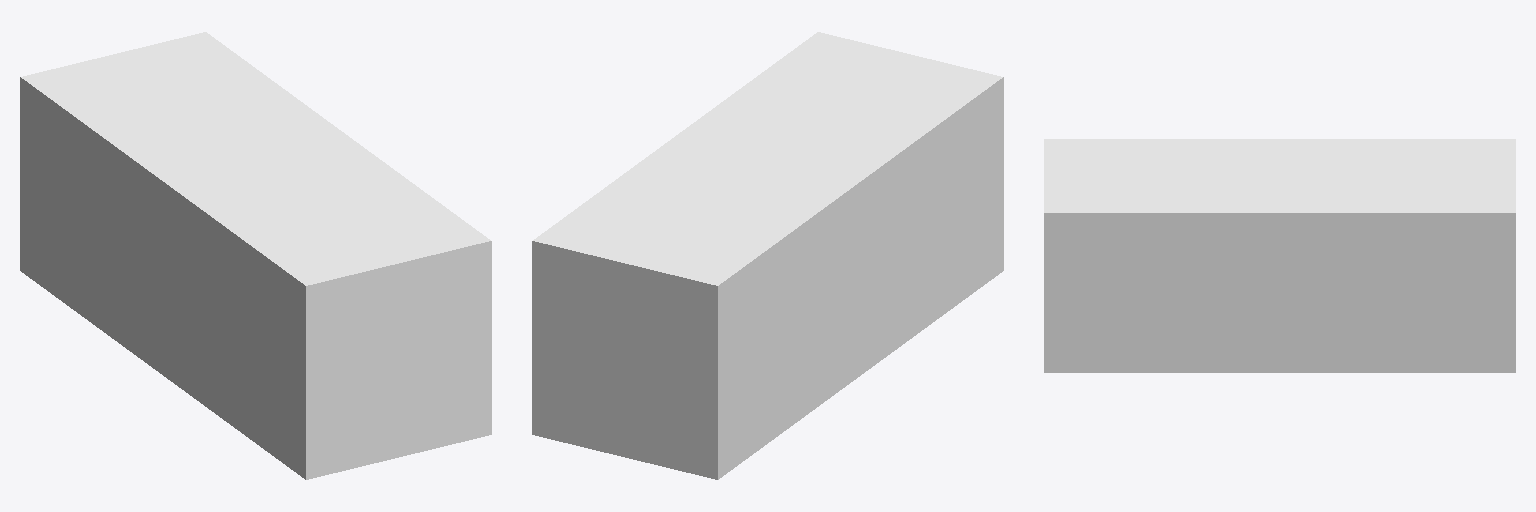
robot.urdf — handle_right:
<?xml version="1.0" ?>
<robot name="handle_right">
 <link name="baseLink">
   <contact>
     <lateral_friction value="0.5"/>
   </contact>
   <inertial>
     <origin rpy="0 0 0" xyz="0.7525 0.82 0.6225"/>
      <mass value="1.0"/>
      <inertia ixx="0.000000" ixy="-0.000000" ixz="0.000000" iyy="0.000000" iyz="-0.000000" izz="0.000000"/>
   </inertial>
   <visual>
     <origin rpy="0 0 0" xyz="0 0 0"/>
     <geometry>
       <mesh filename="handle_right.obj" scale="1.0 1.0 1.0"/>
     </geometry>
      <material name="white">
       <color rgba="1 1 1 1"/>
     </material>
   </visual>
   <collision>
     <origin rpy="0 0 0" xyz="0 0 0"/>
     <geometry>
       <mesh filename="handle_right.obj" scale="1.0 1.0 1.0"/>
     </geometry>
   </collision>
 </link>
</robot>

--- Facts derived from the render (not from the file) ---
Views: 3 orthographic renders of the robot side by side, from view 1: azimuth 30°, elevation 25°; view 2: azimuth 150°, elevation 25°; view 3: azimuth 270°, elevation 25°.
Model handle_right with 1 links and 0 joints (none), rooted at baseLink, posed all joints at 0.
Visible links, largest first — view 1: baseLink; view 2: baseLink; view 3: baseLink.
Link boxes in pixels (x1=…): baseLink: x1=20, y1=32, x2=491, y2=479; baseLink: x1=532, y1=32, x2=1003, y2=479; baseLink: x1=1044, y1=139, x2=1515, y2=372.
Bounding box of the posed robot: 0.015 × 0.04 × 0.015 m (x, y, z).
1 mesh visuals loaded from 1 distinct referenced files (1 OBJ).